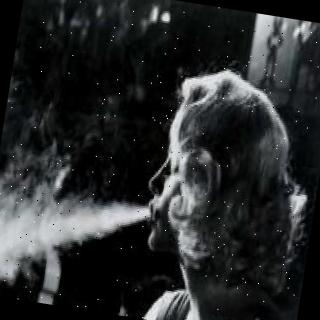smoke: (0, 50, 173, 318)
